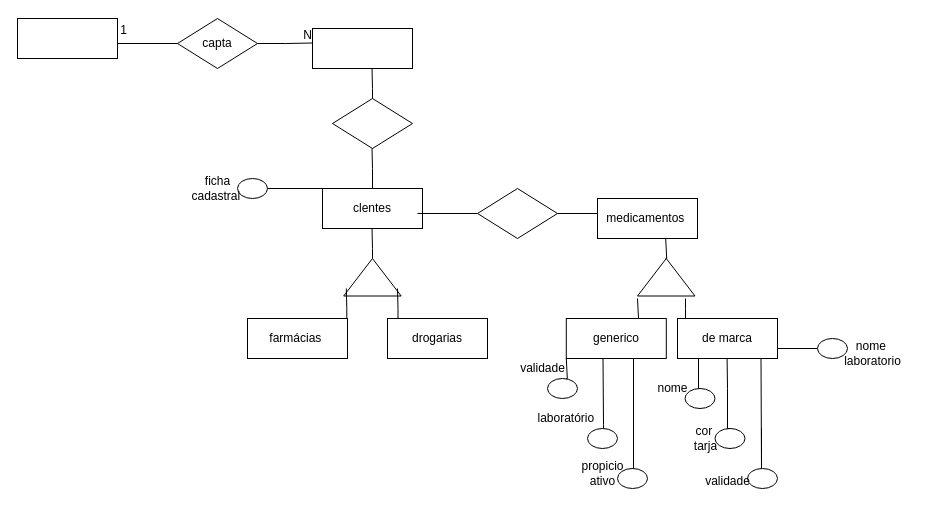
Some shapes in this 925 by 521 pixel diagram are drawn without their labels. The shapes that lost their labels are listed below. From the top down, each one's centre as x and y in pixels, then its label:
pixel 67 38: empresa de produtos farmacêutico
pixel 362 48: pedidos
pixel 372 123: compra
pixel 517 213: solicita
